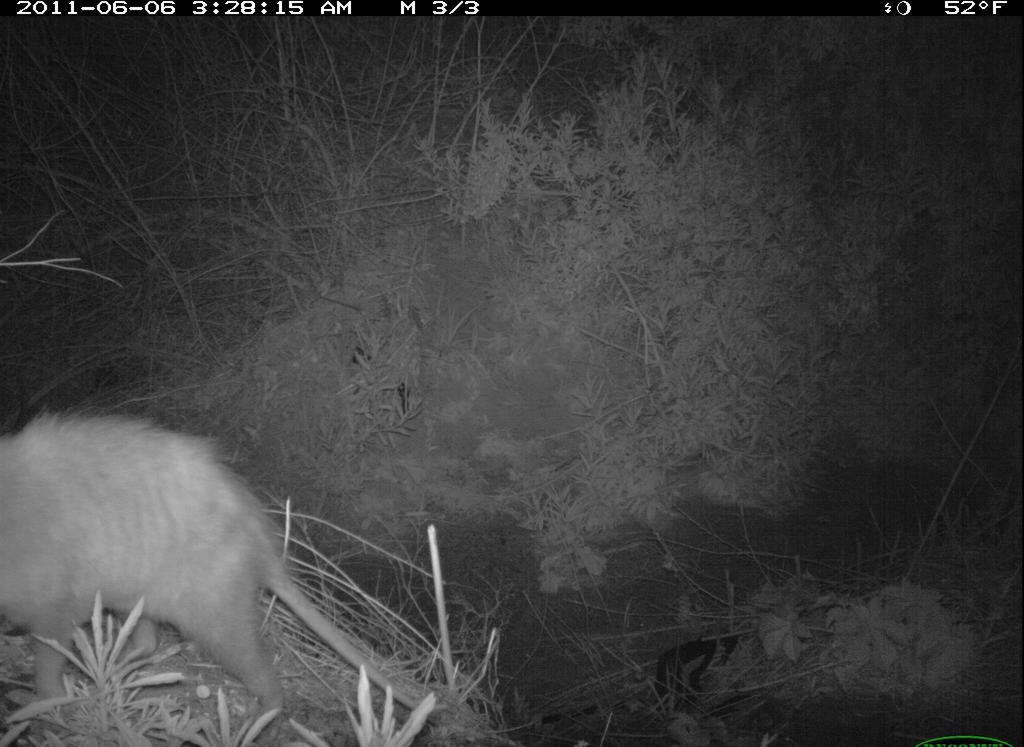opossum: (2, 402, 445, 744)
